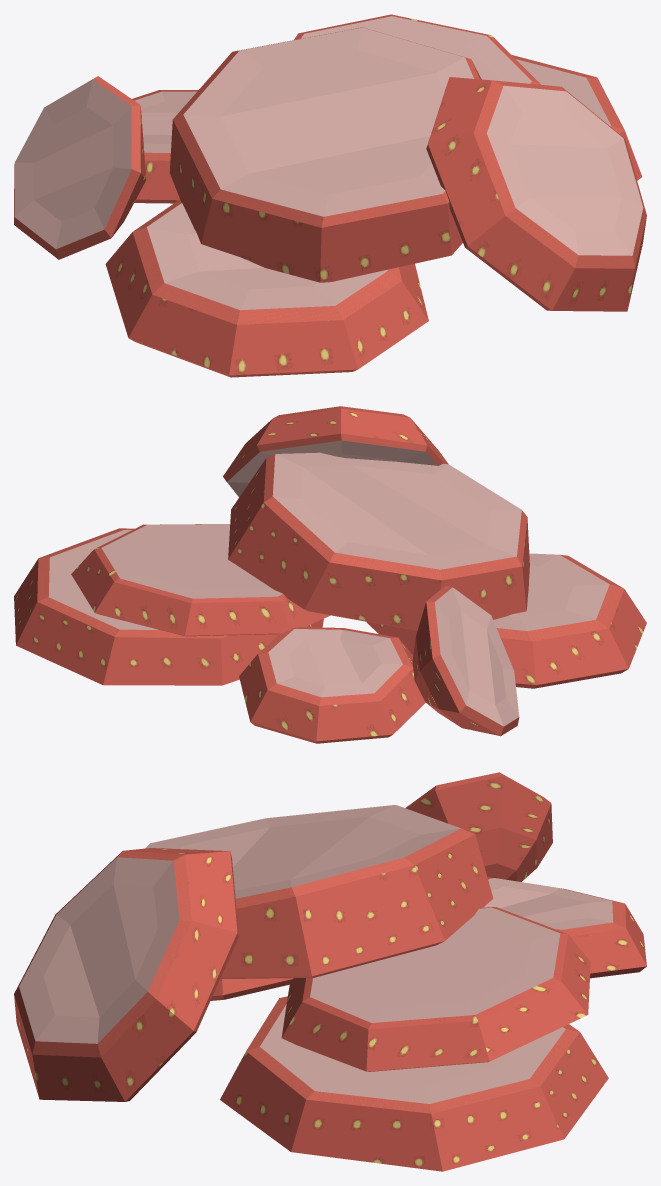
File: choppedStrawberries.fbx
3 views of the same model, one above another, from view 1: azimuth 30°, elevation 25°; view 2: azimuth 150°, elevation 25°; view 3: azimuth 270°, elevation 25° (orthographic). The views are drawn at different scales.
Parts seen in each view (by area): view 1: polySurface10; view 2: polySurface10; view 3: polySurface10.
Boxes of the visible parts, x1,y1,x2,y2 form: polySurface10: (14, 14, 646, 377); polySurface10: (14, 406, 646, 743); polySurface10: (14, 772, 646, 1171).
Bounding box in the file's own units: 3.94 × 1.29 × 3.47.
Materials: 2 (1 with a texture image).
